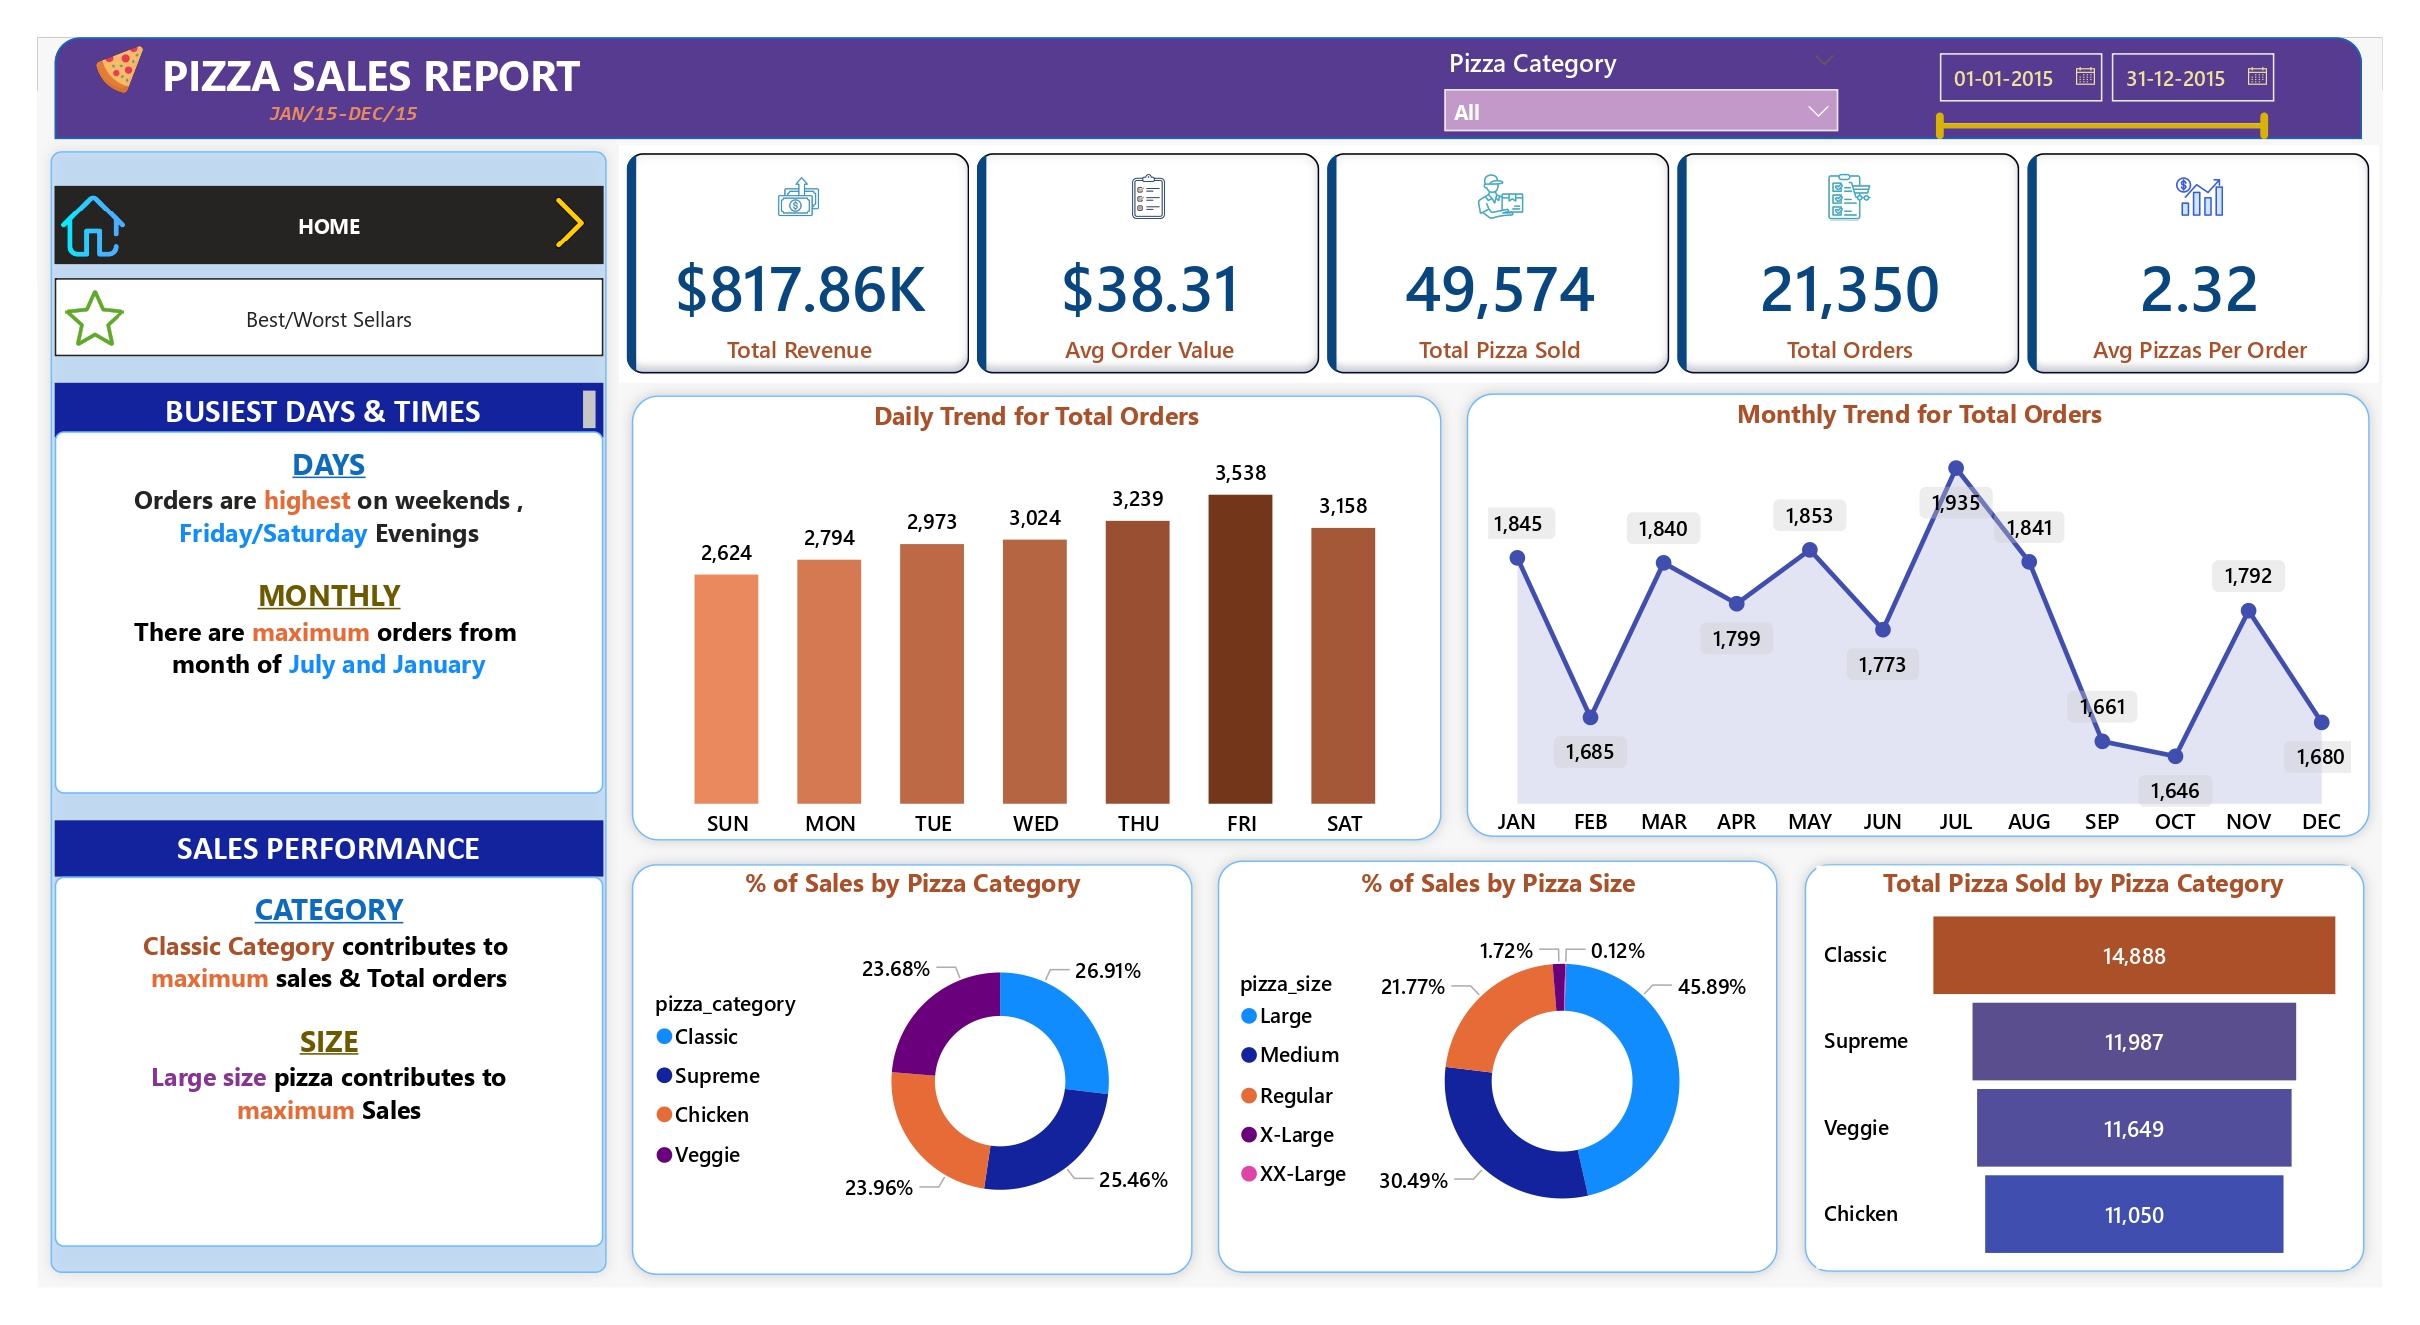

This screenshot's page, from the dashboard's own definition file:
{"tool":"powerbi","page":{"name":"HOME","canvas":[1500,800],"ordinal":0},"visuals":[{"type":"shape","box":[0,65.4,372,733.1],"z":0},{"type":"cardVisual","fields":{"Data":["pizza_sales.Total Revenue","pizza_sales.Avg Order Value","pizza_sales.Total Pizza Sold","pizza_sales.Total Orders","pizza_sales.Avg Pizzas Per Order"]},"box":[372,69.5,1125.5,151.3],"z":1000},{"type":"textbox","box":[10.9,220.7,351.6,35.4],"z":2000},{"type":"shape","box":[10.8,0,1476.2,65],"z":3000},{"type":"textbox","box":[65.4,0,297.1,46.3],"z":4000},{"type":"textbox","box":[134.9,34.1,121.3,35.4],"z":5000},{"type":"image","box":[25.9,0,51.8,40.9],"z":6000},{"type":"shape","box":[372,520.5,374.7,279.3],"z":7000},{"type":"shape","box":[905.9,220.2,594.3,299.6],"z":8000},{"type":"areaChart","title":"Monthly Trend for Total Orders","fields":{"Category":["pizza_sales.Order Month"],"Y":["pizza_sales.Total Orders"]},"box":[922.5,230.3,562.8,290.2],"z":9000},{"type":"shape","box":[372,220.7,534.2,301.1],"z":10000},{"type":"columnChart","title":"Daily Trend for Total Orders","fields":{"Category":["pizza_sales.Order Day"],"Y":["pizza_sales.Total Orders"]},"box":[389,231.3,500,290.9],"z":11000},{"type":"shape","box":[746.7,519.2,374.7,279.3],"z":12000},{"type":"shape","box":[1121.5,521,375,276.9],"z":13000},{"type":"donutChart","title":"% of Sales by Pizza Category","fields":{"Category":["pizza_sales.pizza_category"],"Y":["pizza_sales.Total Revenue"]},"box":[389.7,530.1,340.7,253.5],"z":14000},{"type":"donutChart","title":"% of Sales by Pizza Size","fields":{"Y":["pizza_sales.Total Revenue"],"Category":["pizza_sales.pizza_size"]},"box":[764.4,530.1,340.7,253.5],"z":15000},{"type":"funnel","title":"Total Pizza Sold by Pizza Category","fields":{"Category":["pizza_sales.pizza_category"],"Y":["pizza_sales.Total Pizza Sold"]},"box":[1137.8,530.1,342,257.5],"z":16000},{"type":"textbox","box":[10.9,252.1,351.6,231.7],"z":17000},{"type":"textbox","box":[10.9,501.5,351.6,35.4],"z":18000},{"type":"textbox","box":[10.9,536.9,351.6,237.1],"z":19000},{"type":"slicer","fields":{"Values":["pizza_sales.pizza_category"]},"box":[889.8,0,272.5,65.4],"z":20000},{"type":"slicer","fields":{"Values":["pizza_sales.order_date"]},"box":[1204.3,0,235.8,78.2],"z":21000},{"type":"pageNavigator","box":[10.8,95,351.3,50.5],"z":22000},{"type":"image","box":[6,95,59,50.5],"z":23000},{"type":"image","box":[318.8,95,43.3,45.7],"z":24000},{"type":"pageNavigator","box":[10.8,154,351.3,50.5],"z":25000},{"type":"image","box":[13.2,154,46.9,50.5],"z":26000}]}

Visuals, with their boxes on the page's 1500x800 design canvas (x1, y1, x2, y2). These are canvas units, not pixel positions in the 2420x1325 screenshot, which may show the page scaled, cropped or inside an application window:
shape: box(0, 65, 372, 798)
cardVisual - pizza_sales.Total Revenue x pizza_sales.Avg Order Value: box(372, 70, 1498, 221)
textbox: box(11, 221, 362, 256)
shape: box(11, 0, 1487, 65)
textbox: box(65, 0, 362, 46)
textbox: box(135, 34, 256, 70)
image: box(26, 0, 78, 41)
shape: box(372, 520, 747, 800)
shape: box(906, 220, 1500, 520)
"Monthly Trend for Total Orders" areaChart: box(922, 230, 1485, 520)
shape: box(372, 221, 906, 522)
"Daily Trend for Total Orders" columnChart: box(389, 231, 889, 522)
shape: box(747, 519, 1121, 798)
shape: box(1122, 521, 1496, 798)
"% of Sales by Pizza Category" donutChart: box(390, 530, 730, 784)
"% of Sales by Pizza Size" donutChart: box(764, 530, 1105, 784)
"Total Pizza Sold by Pizza Category" funnel: box(1138, 530, 1480, 788)
textbox: box(11, 252, 362, 484)
textbox: box(11, 502, 362, 537)
textbox: box(11, 537, 362, 774)
slicer - pizza_sales.pizza_category: box(890, 0, 1162, 65)
slicer - pizza_sales.order_date: box(1204, 0, 1440, 78)
pageNavigator: box(11, 95, 362, 146)
image: box(6, 95, 65, 146)
image: box(319, 95, 362, 141)
pageNavigator: box(11, 154, 362, 204)
image: box(13, 154, 60, 204)
